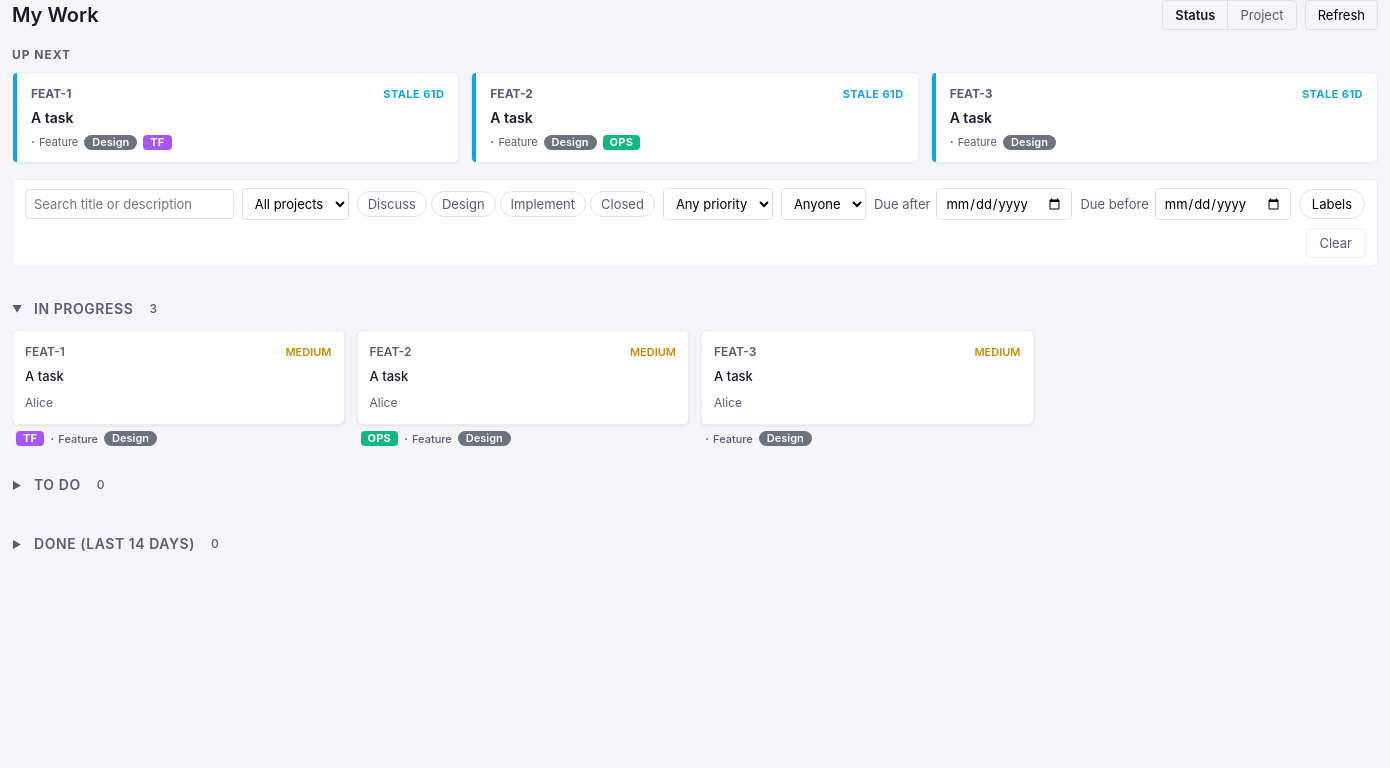
Test: MyWorkView › groups tasks by project when project mode is active, including a 'No project' group for orphans
Click the button with test id "my-work-toggle-project" at (1262, 15), box [1227, 1, 1296, 29]
(page scrolled)
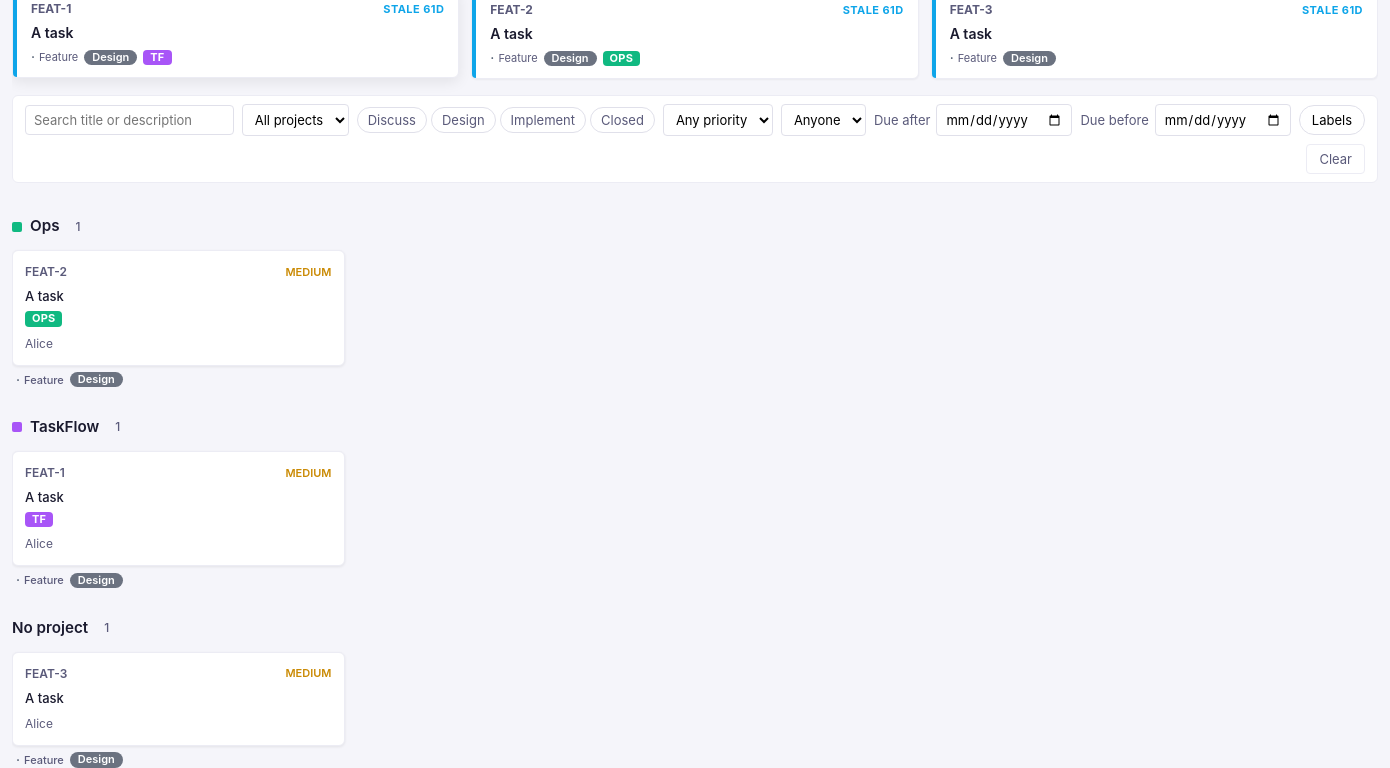
Expected: the element with test id "my-work-project-group-TF" is shown, [12, 416, 344, 595]
Expected: the element with test id "my-work-project-group-OPS" is shown, [12, 216, 344, 394]
